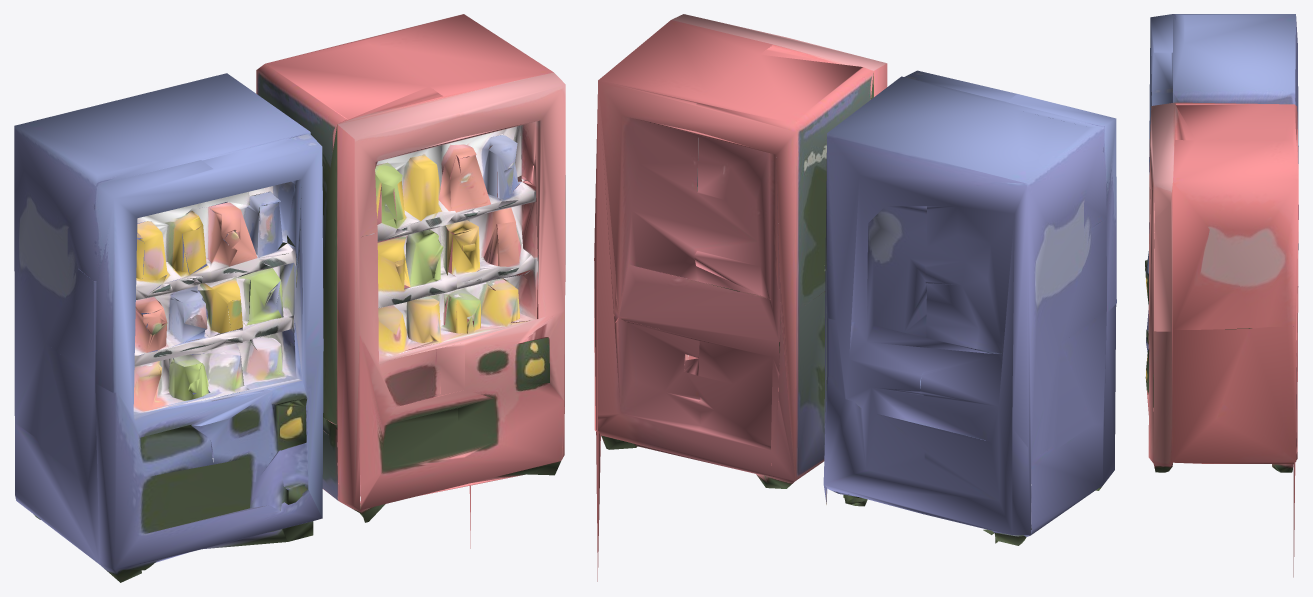
The model's file is M-10_04_vending.glb.
The picture shows the model from 3 angles, left to right: view 1: azimuth 30°, elevation 25°; view 2: azimuth 150°, elevation 25°; view 3: azimuth 270°, elevation 25°; orthographic projection. The views are drawn at different scales.
Visible parts, largest first — view 1: vending; view 2: vending; view 3: vending.
Part boxes in pixels (x1,y1,x2,y2): vending: (14,14,565,582); vending: (594,14,1116,581); vending: (1145,14,1298,577).
Bounding box in the file's own units: 3.33 × 3.68 × 1.27.
Materials: 2 (2 with a texture image).
